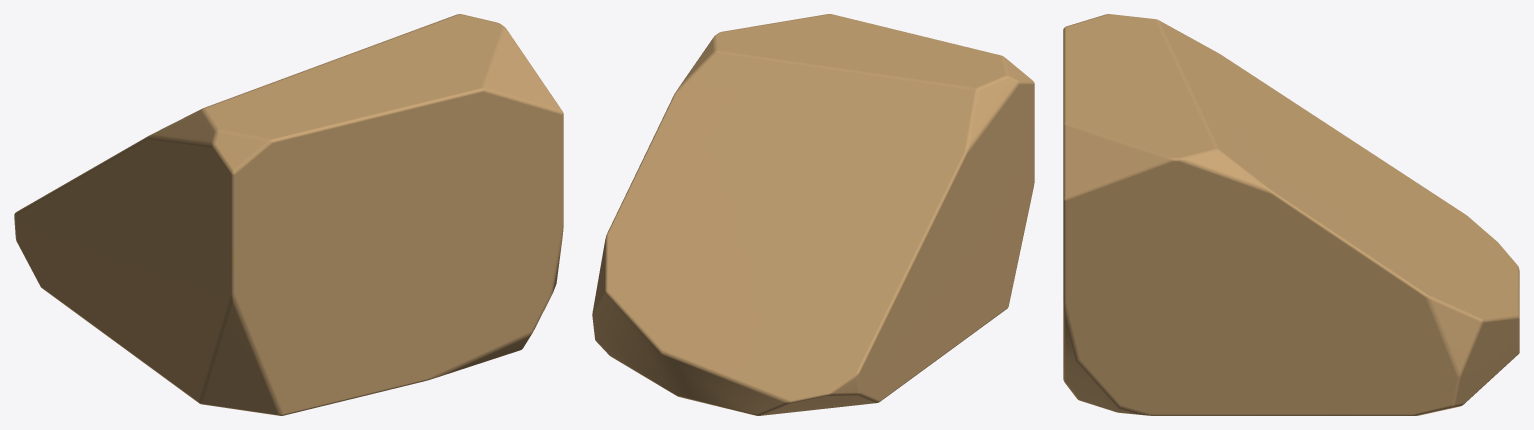
The model's file is Rocks type 8.fbx.
The picture shows the model from 3 angles, left to right: view 1: azimuth 30°, elevation 25°; view 2: azimuth 150°, elevation 25°; view 3: azimuth 270°, elevation 25°; orthographic projection. The views are drawn at different scales.
Visible parts, largest first — view 1: Cube.062; view 2: Cube.062; view 3: Cube.062.
Boxes of the visible parts, box(x1,y1,x2,y2) form: Cube.062: box(14, 14, 563, 415); Cube.062: box(592, 14, 1034, 415); Cube.062: box(1063, 14, 1519, 415).
Size of the model in its own units: 2353 by 1887 by 3026.
